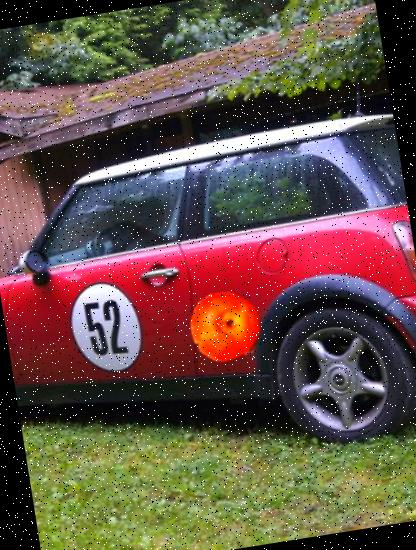Clementine: (184, 286, 269, 370)
